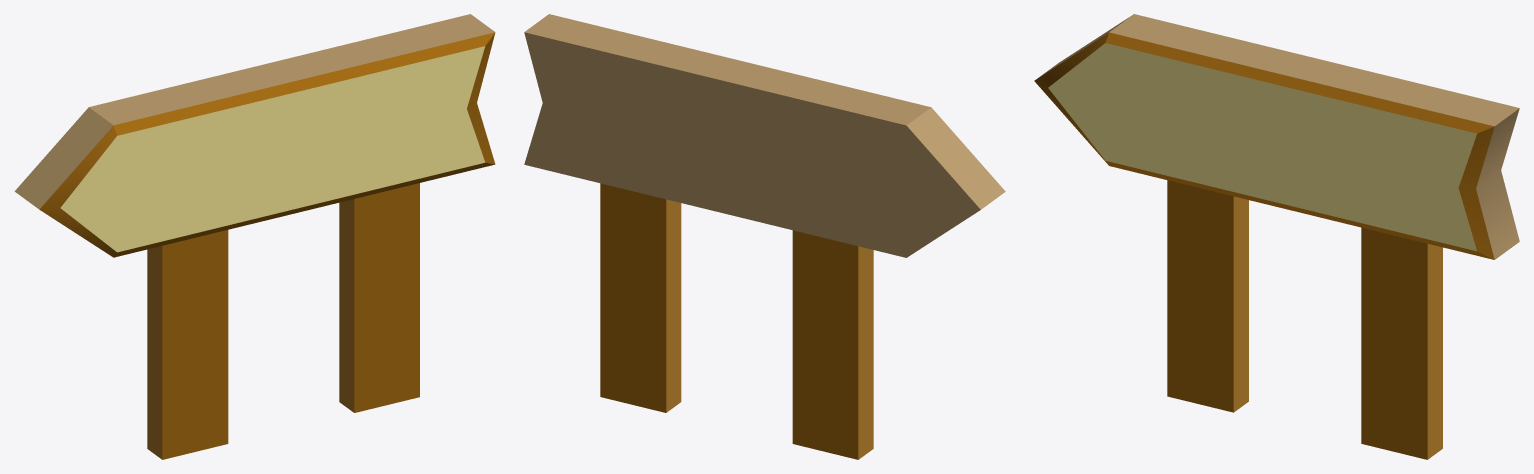
File: way.fbx
3 renders of one model, left to right at view 1: azimuth 30°, elevation 25°; view 2: azimuth 150°, elevation 25°; view 3: azimuth 330°, elevation 25°, orthographic.
Visible parts, largest first — view 1: way; view 2: way; view 3: way.
Boxes of the visible parts, x1,y1,x2,y2 form: way: (14, 14, 495, 459); way: (524, 14, 1005, 459); way: (1034, 14, 1519, 459).
Size of the model in its own units: 34.64 by 25.46 by 3.74.
